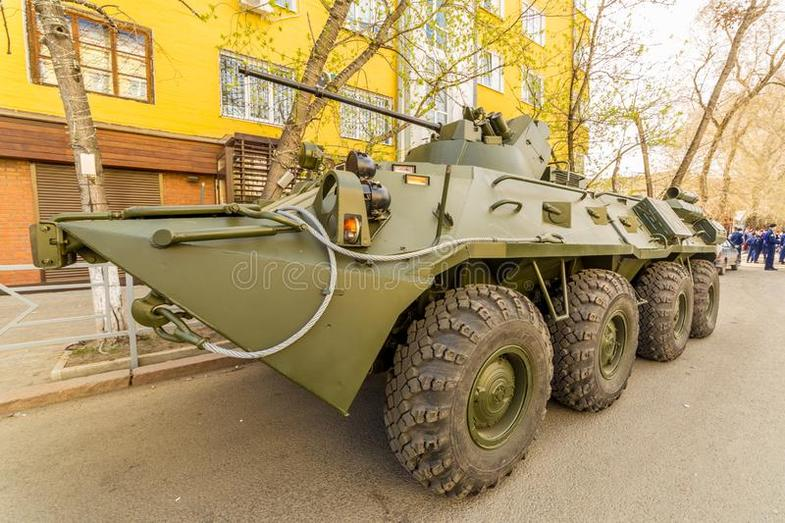btr: (60, 124, 728, 490)
